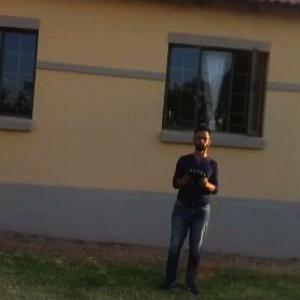follow: (154, 122, 217, 297)
